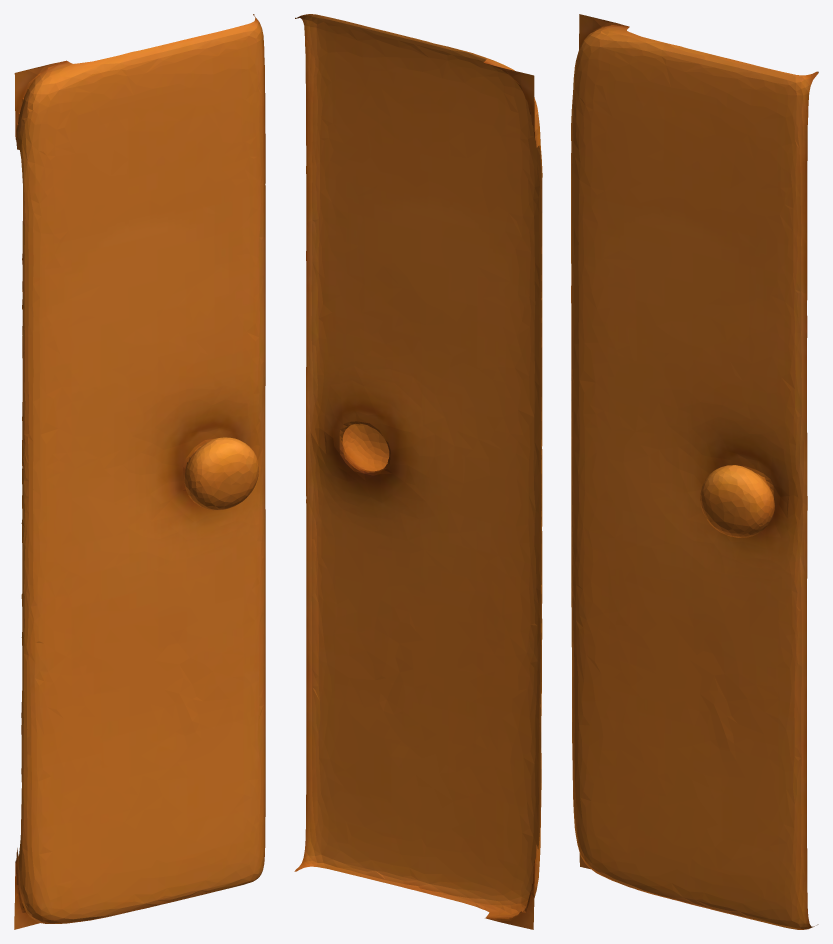
The model's file is door_left.glb.
The picture shows the model from 3 angles, left to right: view 1: azimuth 30°, elevation 25°; view 2: azimuth 150°, elevation 25°; view 3: azimuth 330°, elevation 25°; orthographic projection.
Visible parts, largest first — view 1: source_surface_0; view 2: source_surface_0; view 3: source_surface_0.
Part boxes in pixels (left/top/right/bottom): source_surface_0: left=14, top=14, right=265, bottom=929; source_surface_0: left=294, top=14, right=542, bottom=929; source_surface_0: left=571, top=14, right=818, bottom=929.
Size of the model in its own units: 0.0389 by 0.133 by 0.0103.
1 material, 1 textured.
